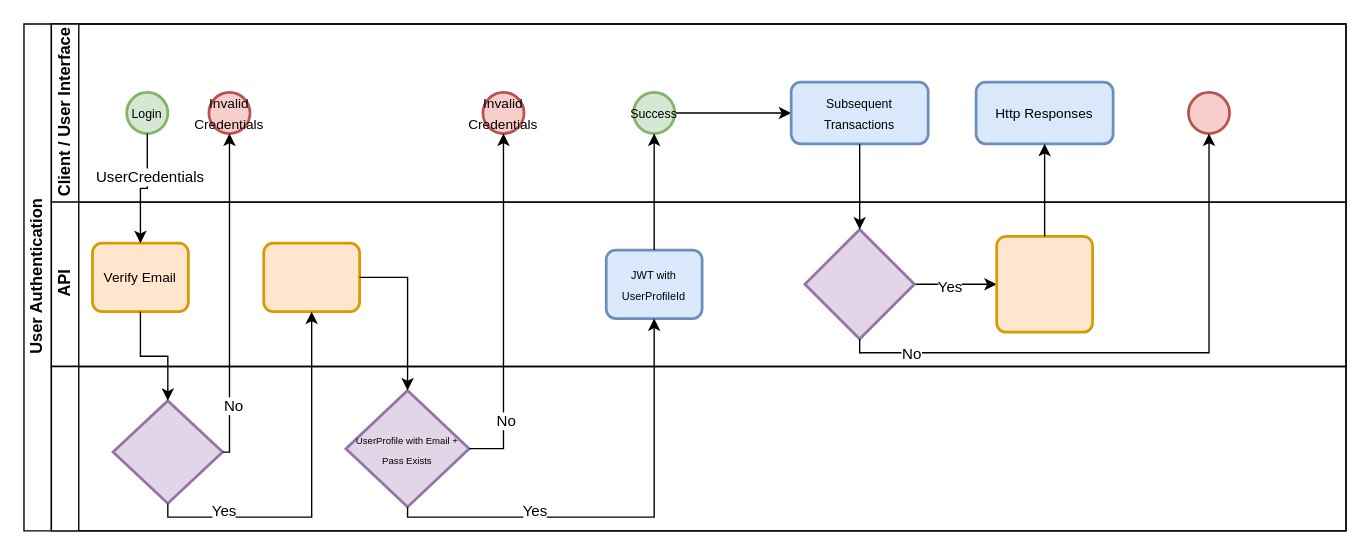
The diagram is 1370 pixels wide and 555 high, and some of its shapes have lost their labels. The box of each missing label's shape, as (x1, y1, x2, y2) in pixels:
Email Exists: (111, 399, 223, 504)
Handle Http Requests: (995, 234, 1093, 333)
JWT is valid: (803, 227, 915, 340)
Persistence / Data: (50, 365, 1346, 531)
Unauthorized: (1186, 90, 1230, 134)
Verify Credential Combo (Email/Pass): (262, 241, 360, 312)
